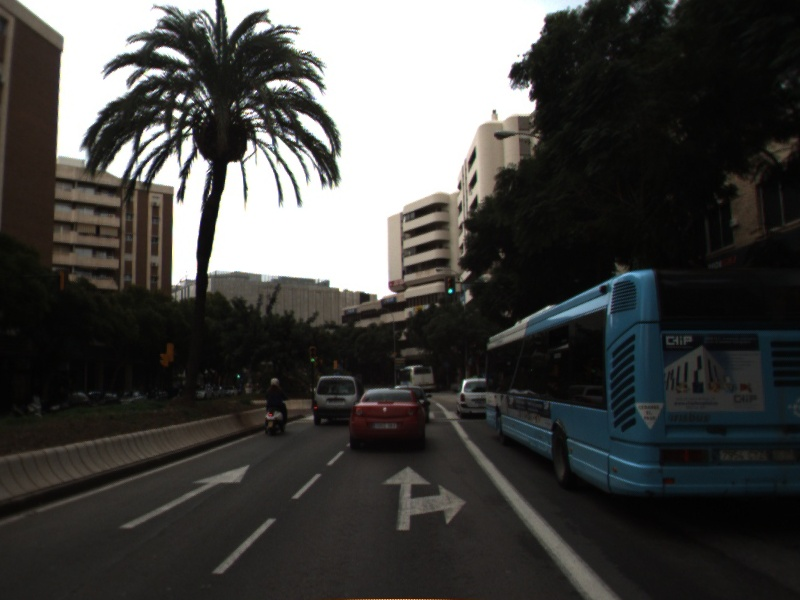STRAIGHT: (117, 462, 252, 531)
STRAIGHT_RIGHT: (378, 464, 469, 533)
